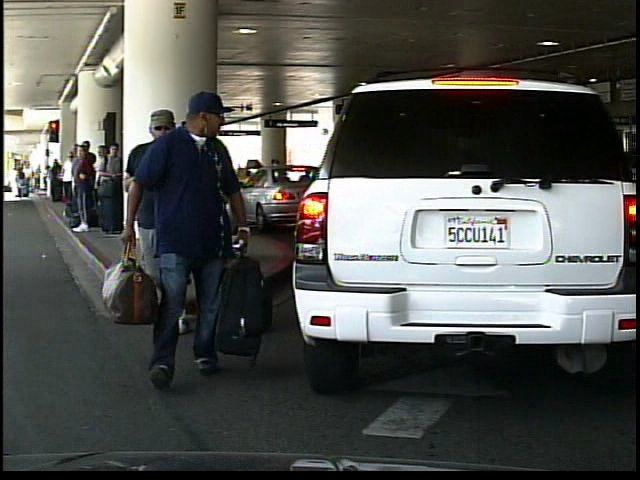person: (142, 85, 279, 395), (117, 101, 196, 324), (168, 133, 223, 262)
